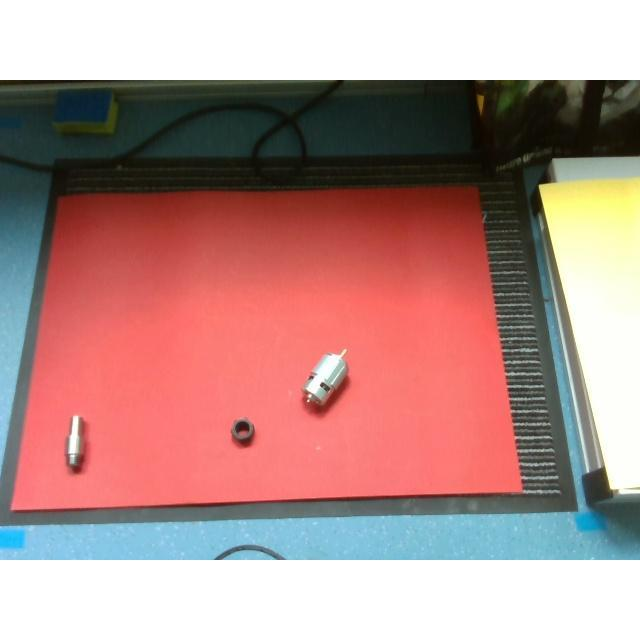Axis2: (66, 414, 92, 470)
M20: (230, 420, 253, 444)
Motor2: (302, 349, 346, 405)
